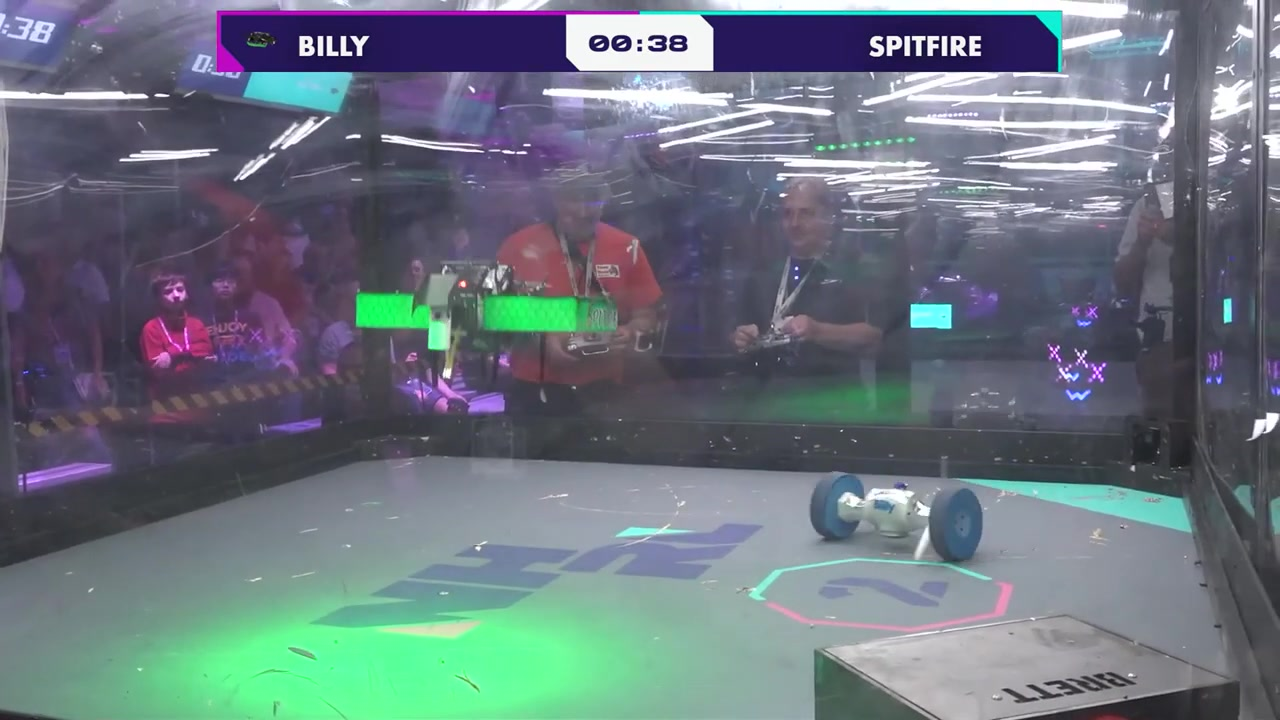combatbot: (355, 259, 616, 407), (808, 474, 986, 566)
housebot: (809, 614, 1232, 718)
